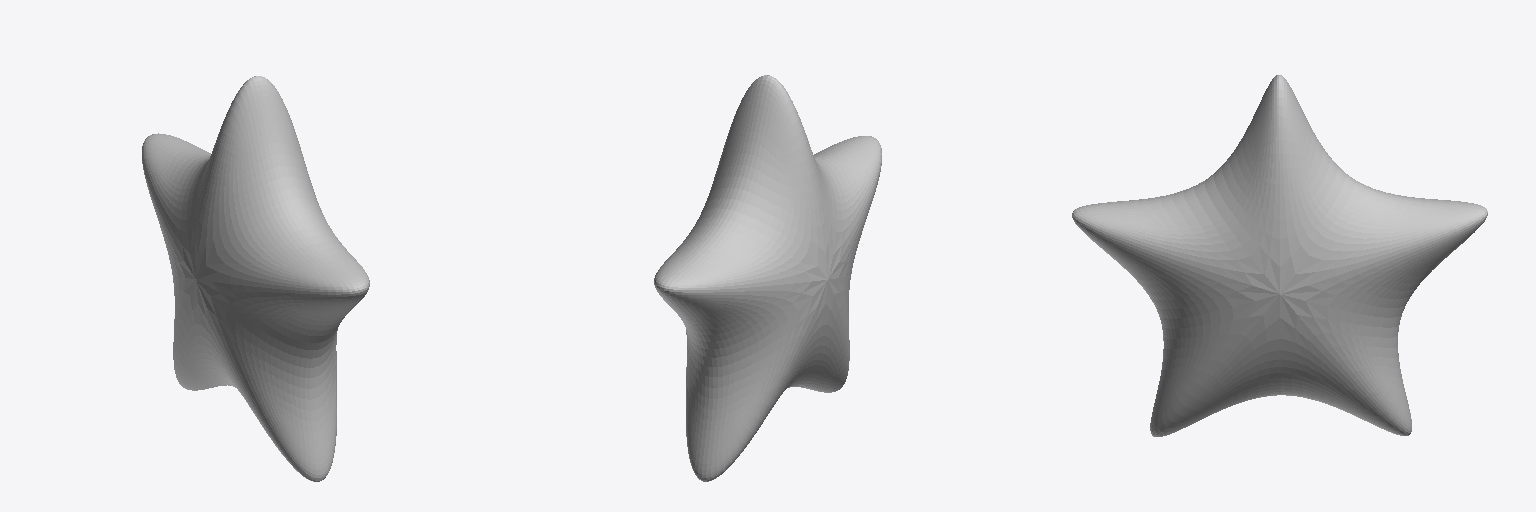
File: star.obj
3 renders of one model, left to right at view 1: azimuth 30°, elevation 25°; view 2: azimuth 150°, elevation 25°; view 3: azimuth 270°, elevation 25°, orthographic.
Visible parts, largest first — view 1: estrellica; view 2: estrellica; view 3: estrellica.
Boxes of the visible parts, <box> form: estrellica: <box>142,76,369,481</box>; estrellica: <box>654,75,881,481</box>; estrellica: <box>1072,75,1487,436</box>.
Bounding box in the file's own units: 0.8767 × 2.51 × 2.63.